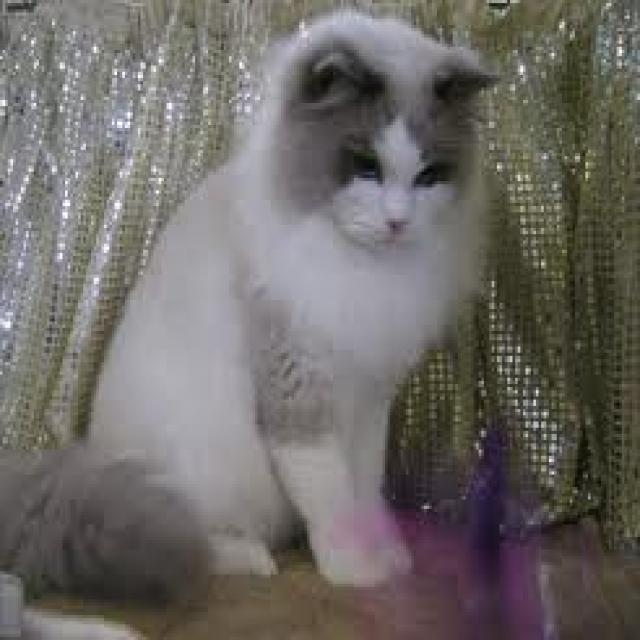Ragdoll: (261, 3, 501, 276)
